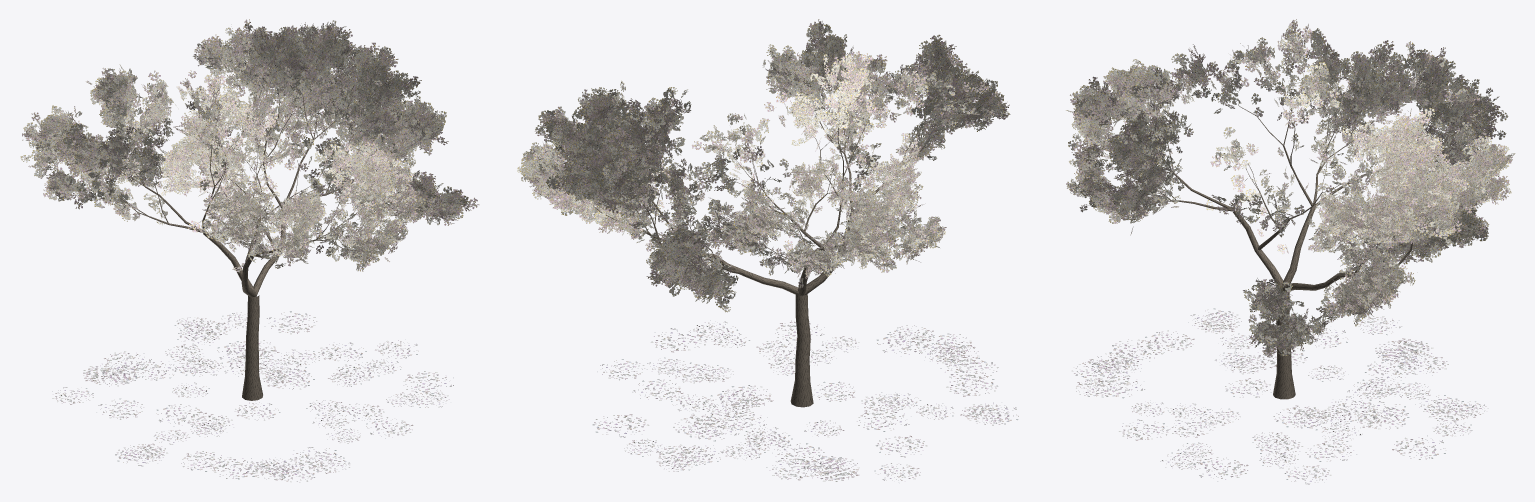
The model's file is ipe_branco_10anos.glb.
3 views of the same model, side by side, from view 1: azimuth 30°, elevation 25°; view 2: azimuth 150°, elevation 25°; view 3: azimuth 270°, elevation 25° (orthographic). The views are drawn at different scales.
Visible parts, largest first — view 1: Ipê-branco; view 2: Ipê-branco; view 3: Ipê-branco.
Part boxes in pixels (x1,y1,x2,y2): Ipê-branco: (20, 19, 479, 482); Ipê-branco: (517, 19, 1018, 481); Ipê-branco: (1066, 19, 1515, 484).
Bounding box in the file's own units: 7.61 × 6 × 7.12.
Materials: 3 (3 with a texture image).
